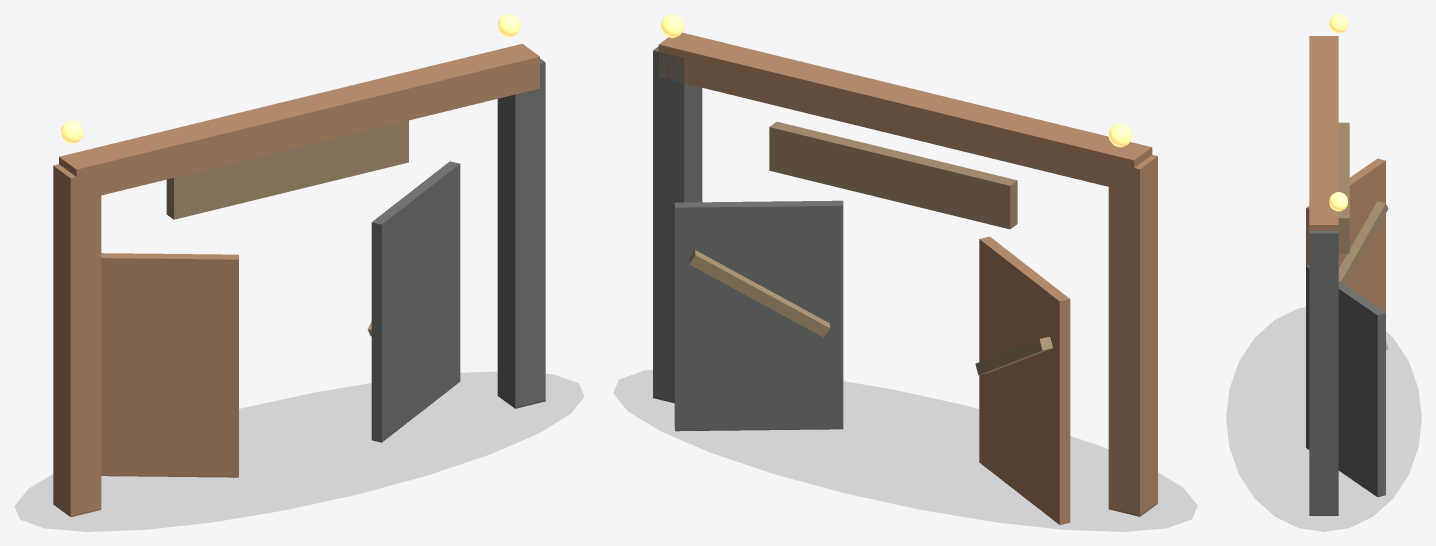
Rendered from open_scrap_gate.glb.
The picture shows the model from 3 angles, left to right: view 1: azimuth 30°, elevation 25°; view 2: azimuth 150°, elevation 25°; view 3: azimuth 270°, elevation 25°; orthographic projection. The views are drawn at different scales.
Visible parts, largest first — view 1: leaf_slab (×2), baked_contact_shadow, gate_lintel, gate_post_0, gate_post_1, gate_sign; view 2: leaf_slab (×2), baked_contact_shadow, gate_lintel, gate_post_0, gate_sign, gate_post_1, leaf_brace (×2); view 3: baked_contact_shadow, leaf_slab (×2), gate_post_1, gate_lintel, gate_sign, leaf_brace, left_lamp, right_lamp.
Part boxes in pixels (x1,y1,x2,y2): leaf_slab (×2): (101, 161, 460, 477); baked_contact_shadow: (15, 372, 583, 531); gate_lintel: (59, 43, 539, 201); gate_post_0: (53, 164, 101, 516); gate_post_1: (497, 58, 545, 408); gate_sign: (166, 120, 408, 219); leaf_slab (×2): (674, 200, 1070, 524); baked_contact_shadow: (614, 370, 1196, 531); gate_lintel: (658, 32, 1152, 191); gate_post_0: (1108, 154, 1157, 516); gate_sign: (769, 121, 1017, 229); gate_post_1: (653, 46, 702, 403); leaf_brace (×2): (689, 250, 1052, 375); baked_contact_shadow: (1226, 308, 1421, 531); leaf_slab (×2): (1306, 158, 1385, 497); gate_post_1: (1309, 231, 1338, 515); gate_lintel: (1309, 36, 1338, 230); gate_sign: (1338, 122, 1349, 253); leaf_brace: (1338, 201, 1388, 284); left_lamp: (1329, 14, 1347, 33); right_lamp: (1329, 192, 1347, 211).
Size of the model in its own units: 4.4 by 2.84 by 1.6.
